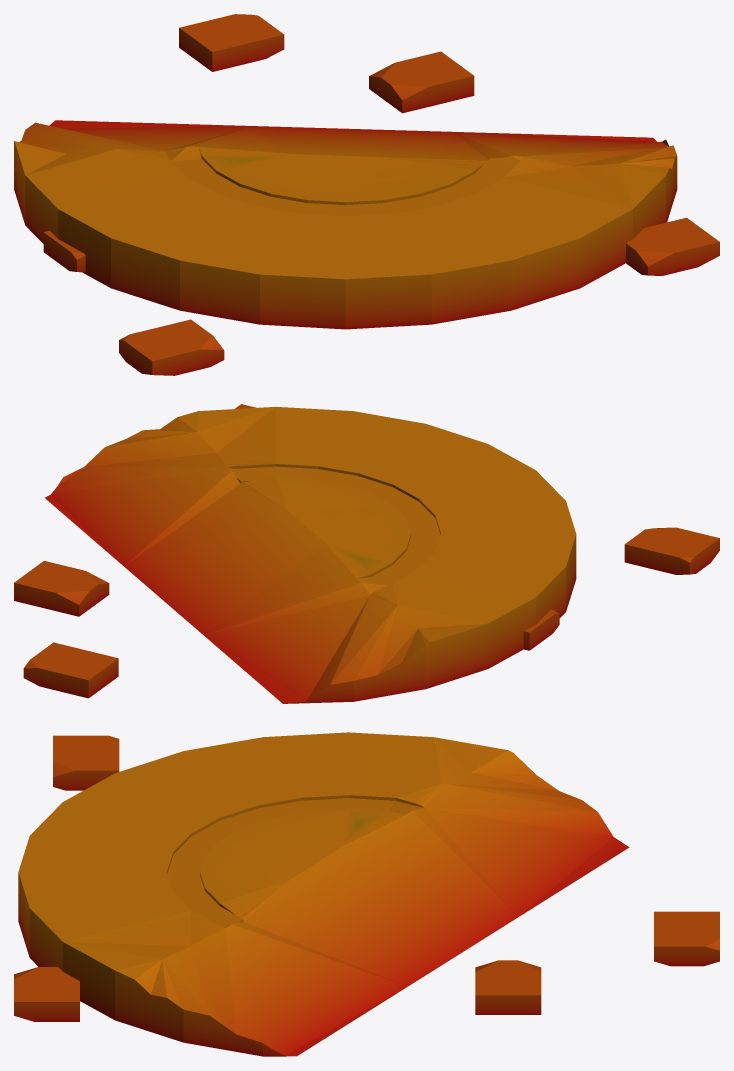
Rendered from plaza_ring_broken.glb.
3 renders of one model, top to bottom at view 1: azimuth 30°, elevation 25°; view 2: azimuth 150°, elevation 25°; view 3: azimuth 270°, elevation 25°, orthographic. The views are drawn at different scales.
Parts seen in each view (by area): view 1: plaza_ring_broken; view 2: plaza_ring_broken; view 3: plaza_ring_broken.
Part boxes in pixels (<box>): plaza_ring_broken: <box>14,14,719,375</box>; plaza_ring_broken: <box>14,404,719,703</box>; plaza_ring_broken: <box>14,732,719,1056</box>.
Size of what is drawn, in the model's own units: 6.51 by 0.5 by 6.42.
